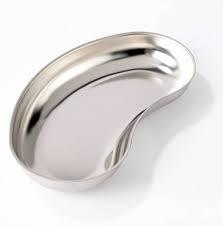Kidney Tray: (8, 32, 196, 190)
